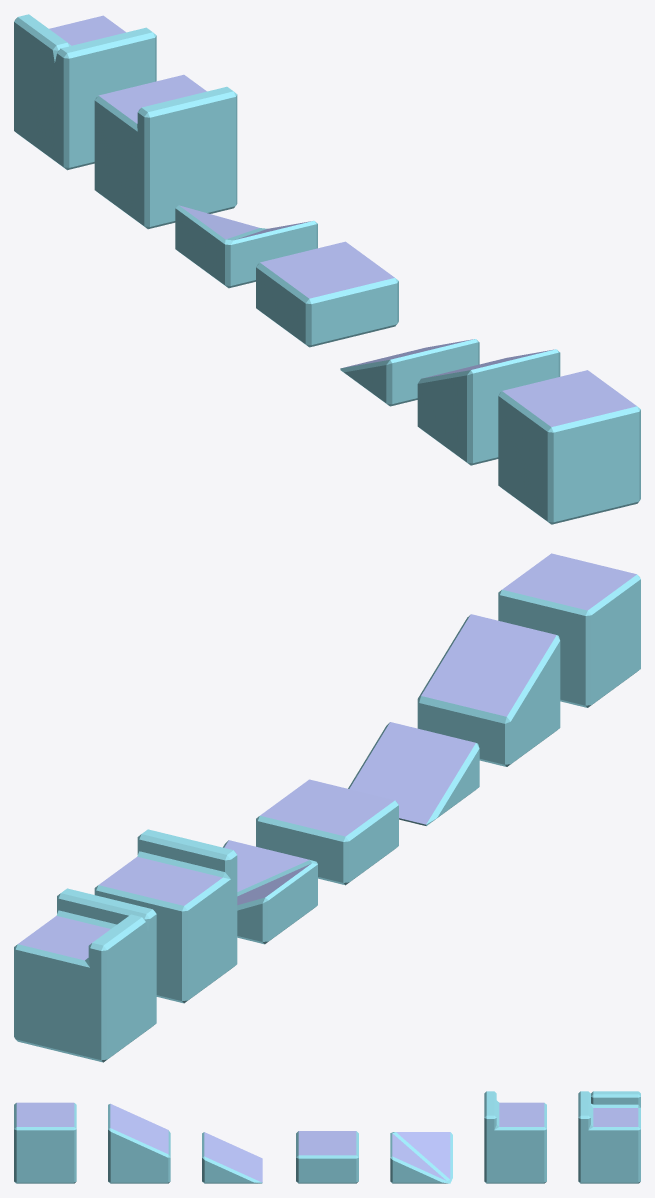
File: ice-blocks-v1.glb
3 renders of one model, top to bottom at view 1: azimuth 30°, elevation 25°; view 2: azimuth 150°, elevation 25°; view 3: azimuth 270°, elevation 25°, orthographic. The views are drawn at different scales.
Parts seen in each view (by area): view 1: BlockWall, Block, BlockWallCorner, BlockShort, RampTop, RampLowerCorner, RampBottom; view 2: BlockWallCorner, RampTop, BlockWall, Block, BlockShort, RampBottom, RampLowerCorner; view 3: BlockWallCorner, BlockWall, Block, RampTop, BlockShort, RampLowerCorner, RampBottom.
Part boxes in pixels (x1=…): BlockWall: x1=94, y1=74, x2=237, y2=229; Block: x1=498, y1=370, x2=640, y2=524; BlockWallCorner: x1=14, y1=14, x2=156, y2=170; BlockShort: x1=256, y1=241, x2=398, y2=347; RampTop: x1=417, y1=349, x2=560, y2=465; RampLowerCorner: x1=175, y1=205, x2=317, y2=288; RampBottom: x1=340, y1=339, x2=479, y2=406; BlockWallCorner: x1=14, y1=888, x2=156, y2=1062; RampTop: x1=417, y1=614, x2=560, y2=766; BlockWall: x1=94, y1=829, x2=237, y2=1003; Block: x1=498, y1=553, x2=640, y2=707; BlockShort: x1=256, y1=779, x2=398, y2=885; RampBottom: x1=348, y1=722, x2=479, y2=825; RampLowerCorner: x1=223, y1=840, x2=317, y2=944; BlockWallCorner: x1=578, y1=1091, x2=640, y2=1183; BlockWall: x1=484, y1=1091, x2=546, y2=1183; Block: x1=14, y1=1102, x2=76, y2=1183; RampTop: x1=108, y1=1103, x2=170, y2=1183; BlockShort: x1=296, y1=1131, x2=358, y2=1183; RampLowerCorner: x1=390, y1=1132, x2=452, y2=1183; RampBottom: x1=202, y1=1132, x2=262, y2=1183.
Size of what is drawn, in the model's own units: 2 by 2.4 by 20.
